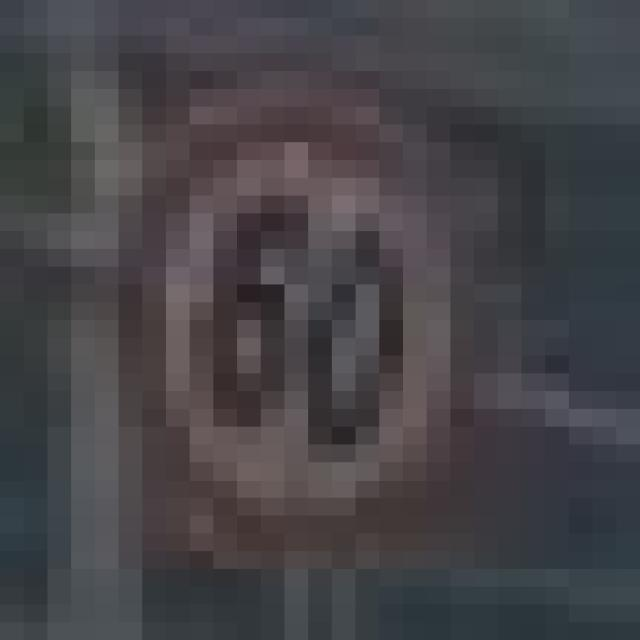speed_limit_60: (71, 71, 450, 569)
